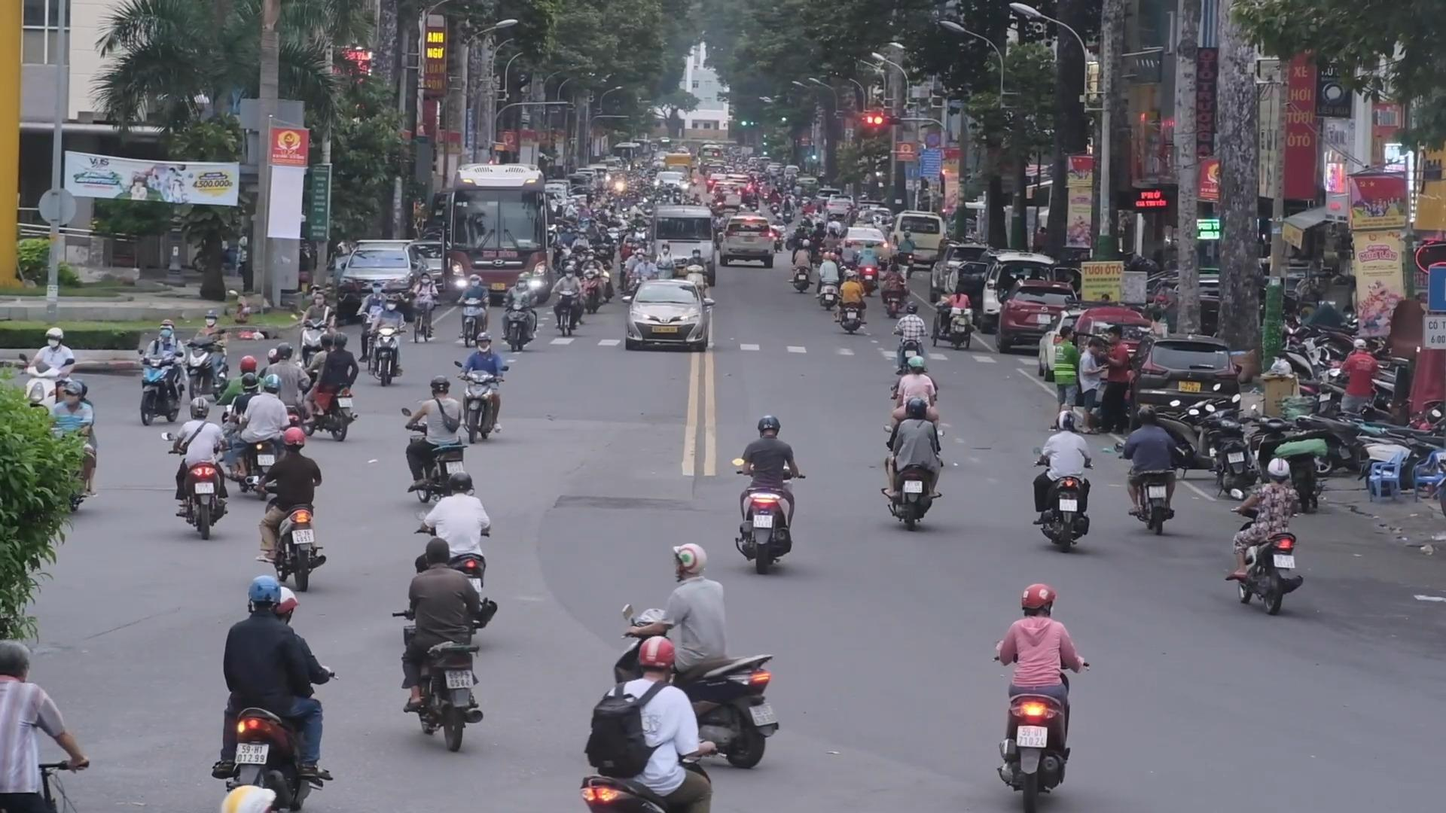bicyclist: (0, 639, 90, 813), (409, 272, 439, 344)
driver: (604, 543, 779, 768), (210, 576, 340, 813), (579, 635, 720, 813), (992, 583, 1091, 813), (392, 536, 484, 753), (413, 471, 502, 636), (245, 427, 327, 592), (1225, 457, 1304, 616), (732, 414, 806, 574), (162, 397, 232, 540), (1032, 409, 1095, 553), (402, 375, 468, 503), (881, 397, 944, 531), (1114, 403, 1177, 536), (295, 331, 359, 442), (454, 332, 509, 444), (137, 319, 189, 426), (17, 327, 74, 416), (184, 308, 230, 400), (369, 293, 408, 387), (500, 271, 538, 352), (891, 300, 930, 376), (455, 274, 492, 348), (550, 265, 585, 337), (833, 271, 867, 334), (787, 238, 815, 294), (814, 251, 839, 310)
helmet: (638, 636, 676, 682), (673, 543, 707, 583), (247, 576, 281, 614), (1021, 583, 1057, 617), (272, 587, 299, 625), (282, 426, 305, 454), (1267, 457, 1290, 484), (757, 414, 781, 439), (448, 471, 472, 494), (905, 398, 929, 420), (430, 375, 451, 398), (190, 396, 210, 420), (1055, 409, 1076, 431), (44, 327, 64, 349), (1137, 404, 1157, 425), (240, 372, 259, 394), (264, 374, 282, 394), (907, 355, 925, 375), (476, 332, 492, 353), (276, 342, 293, 360), (240, 356, 257, 373), (204, 309, 218, 328)
no-helmet: (0, 639, 30, 683), (424, 537, 450, 568), (62, 381, 83, 406)
